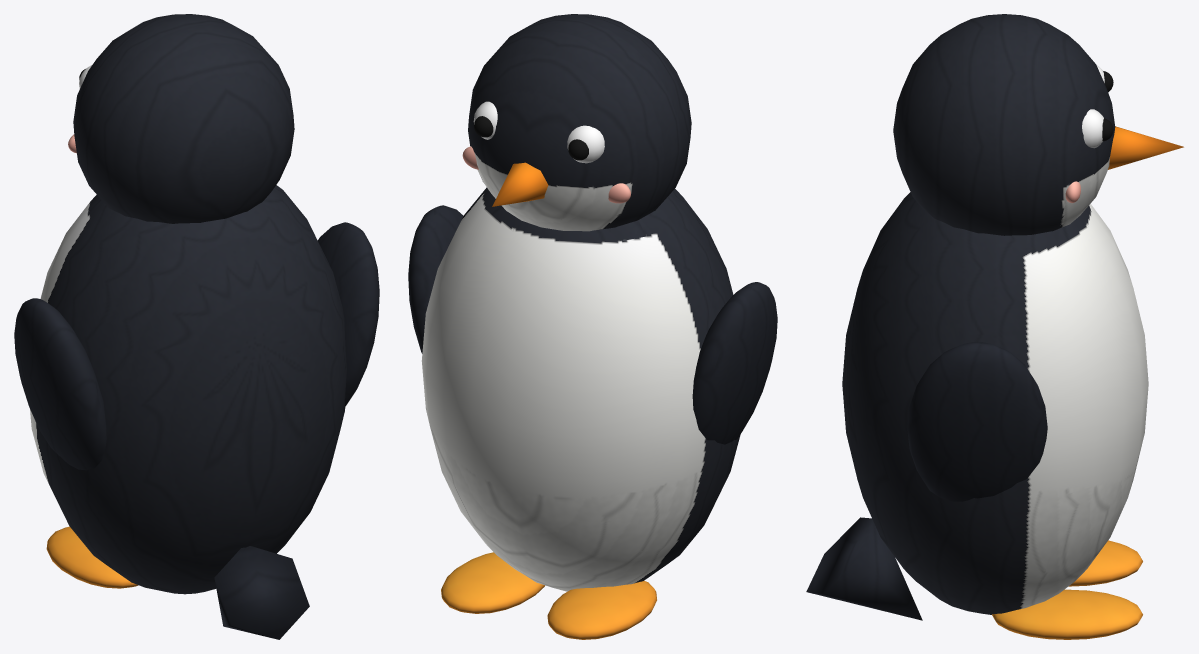
File: penguin.glb
3 views of the same model, side by side, from view 1: azimuth 30°, elevation 25°; view 2: azimuth 150°, elevation 25°; view 3: azimuth 270°, elevation 25° (orthographic). The views are drawn at different scales.
Parts seen in each view (by area): view 1: Body, Head; view 2: Body, Head; view 3: Body, Head.
Part boxes in pixels (box(x1,y1,x2,y2)): Body: box(14, 185, 379, 639); Head: box(68, 14, 294, 223); Body: box(408, 187, 777, 639); Head: box(462, 14, 691, 231); Body: box(806, 192, 1148, 639); Head: box(893, 14, 1183, 235).
Bounding box in the file's own units: 0.448 × 0.73 × 0.42.
1 material, 1 textured.
